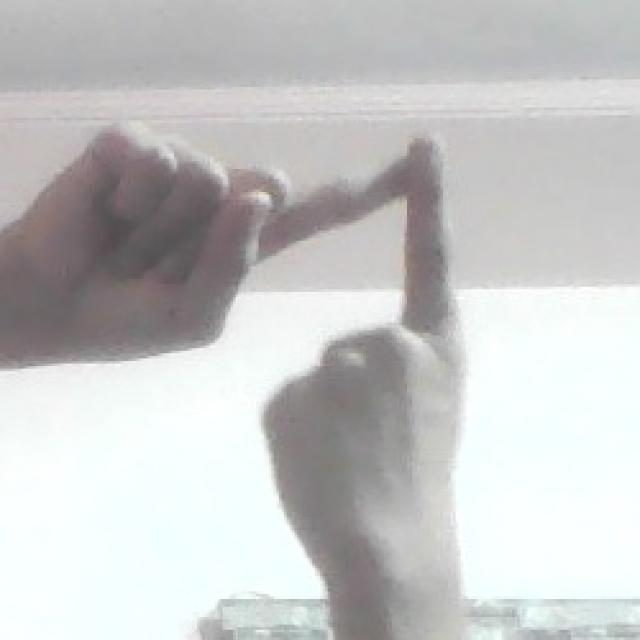Alphabet-E: (52, 109, 473, 596)
